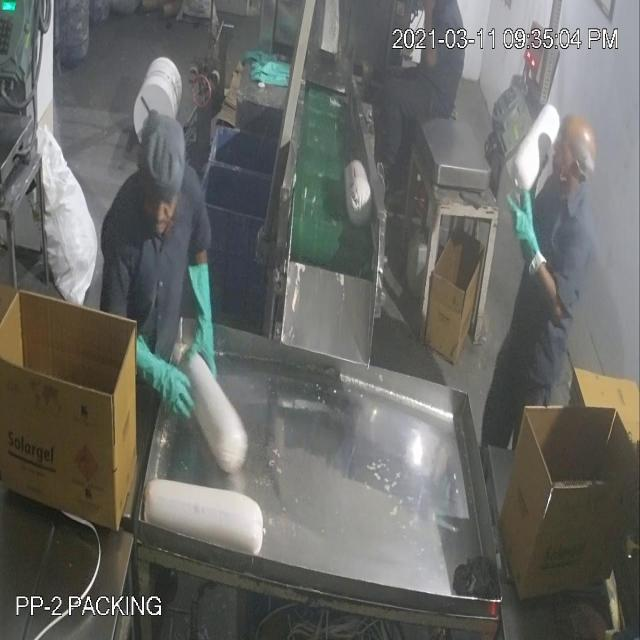Gloves: (28, 38, 526, 319)
